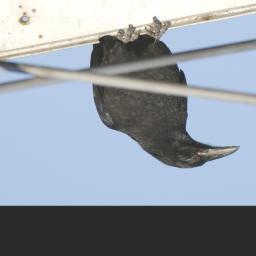Crow: (87, 17, 242, 170)
